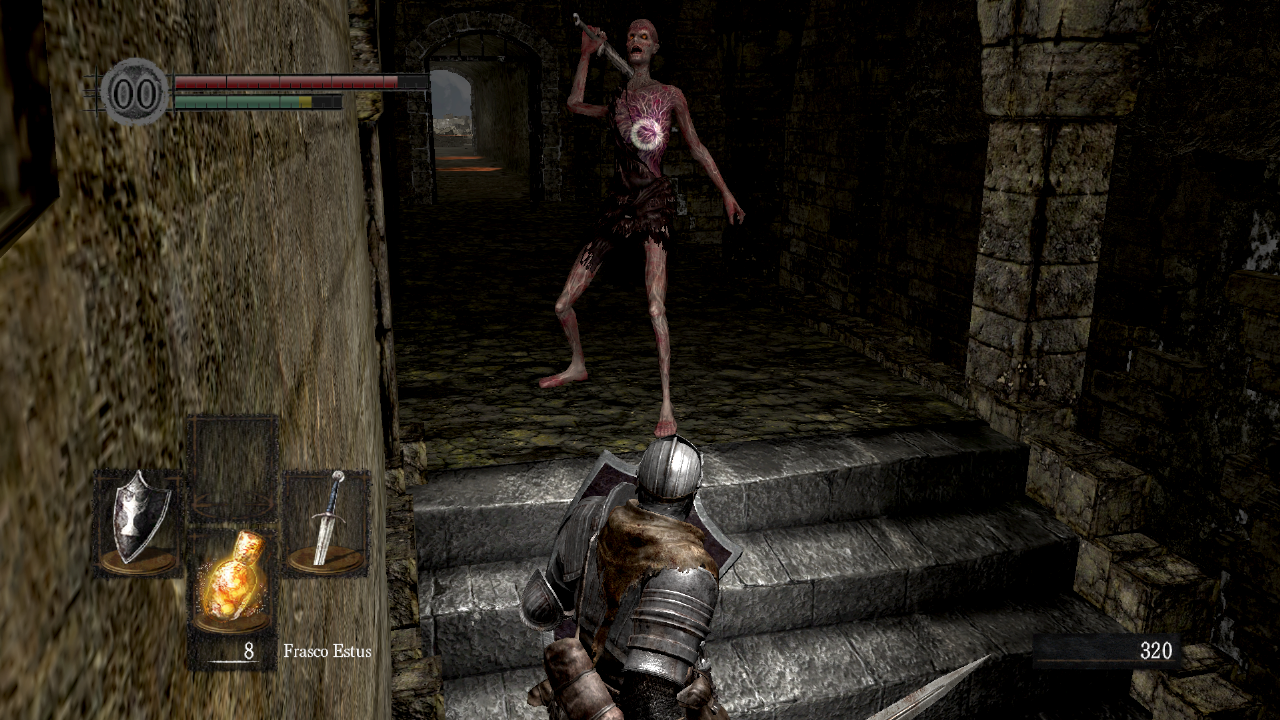hollow: (539, 13, 746, 439)
player: (519, 433, 994, 720)
